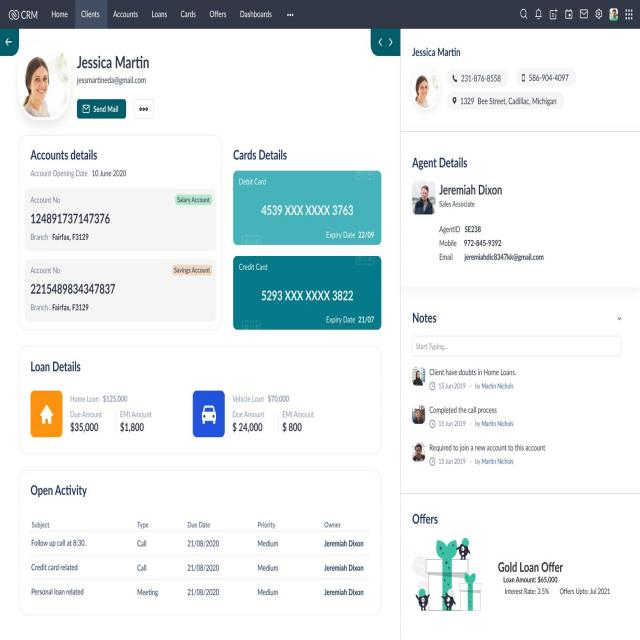button: (77, 98, 126, 118), (134, 98, 152, 118)
input: (412, 334, 621, 357)
